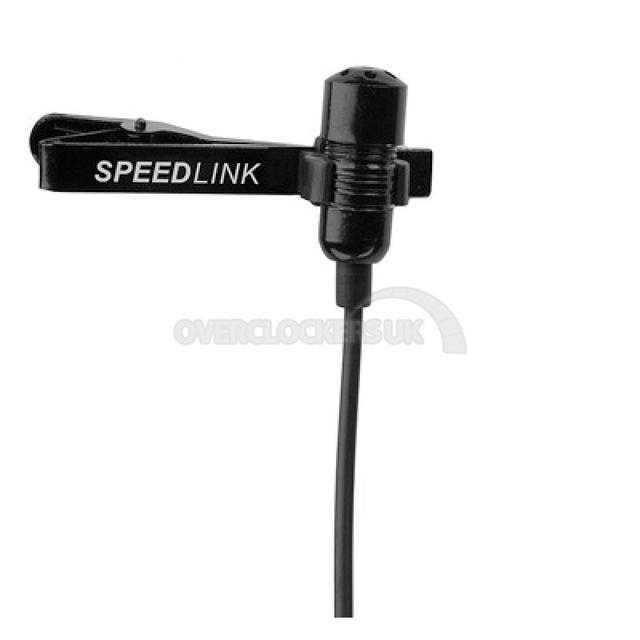microphone: (284, 60, 438, 313)
